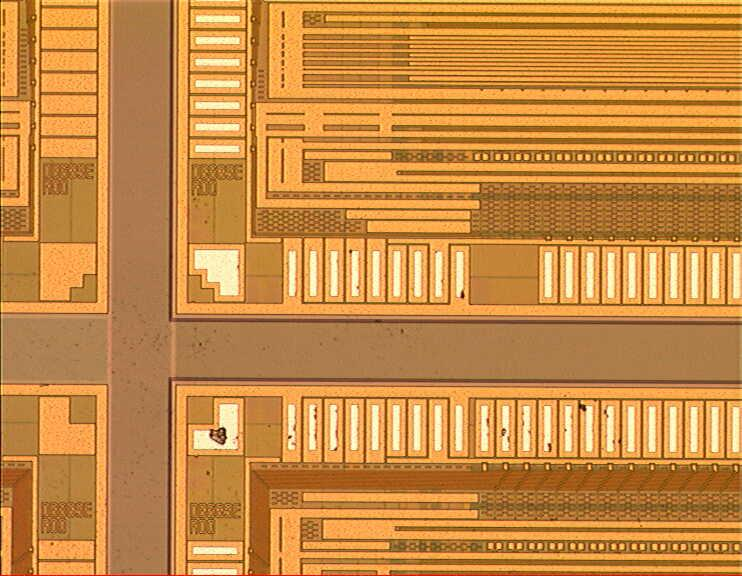PO CONTAMINATION: (30, 242, 633, 576)
